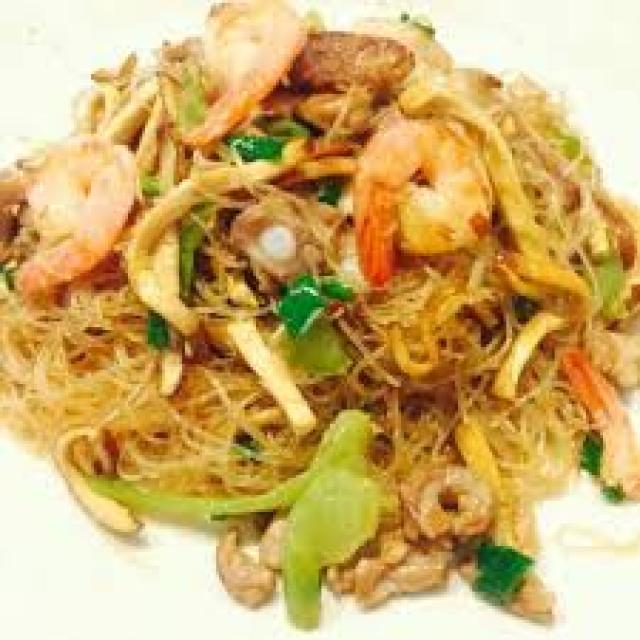food_waste: (0, 0, 637, 626)
